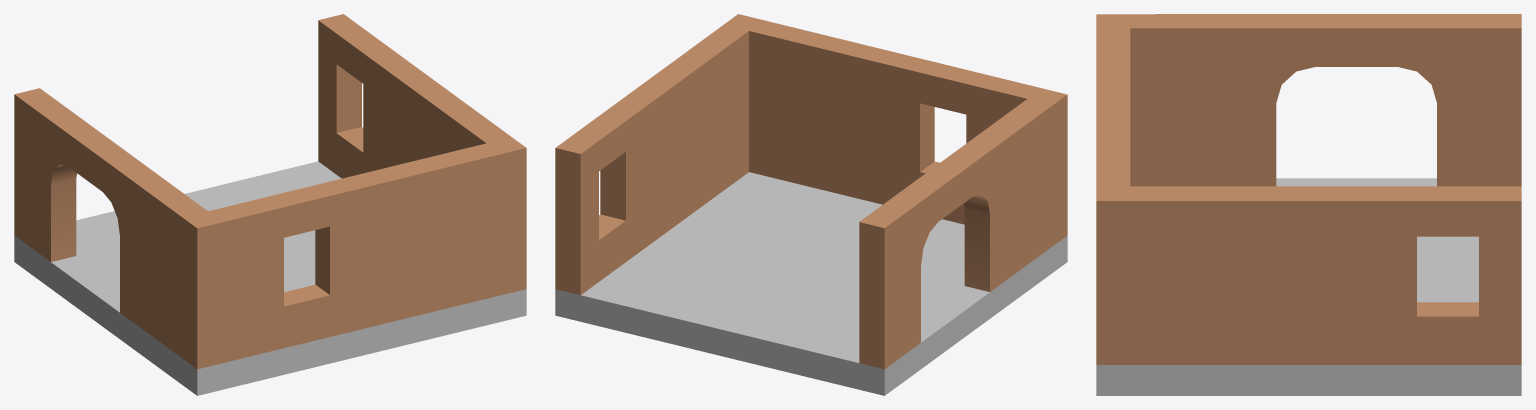
File: main.obj
3 views of the same model, side by side, from view 1: azimuth 30°, elevation 25°; view 2: azimuth 150°, elevation 25°; view 3: azimuth 270°, elevation 25° (orthographic). The views are drawn at different scales.
Parts seen in each view (by area): view 1: Wall#1_Walls_0, Floor_Floor_0; view 2: Wall#1_Walls_0, Floor_Floor_0; view 3: Wall#1_Walls_0, Floor_Floor_0.
Boxes of the visible parts, bbox=[...] form: Wall#1_Walls_0: bbox=[14, 14, 526, 369]; Floor_Floor_0: bbox=[14, 161, 526, 395]; Wall#1_Walls_0: bbox=[555, 14, 1067, 369]; Floor_Floor_0: bbox=[555, 172, 1067, 395]; Wall#1_Walls_0: bbox=[1096, 14, 1521, 364]; Floor_Floor_0: bbox=[1096, 178, 1521, 395].
Size of the model in its own units: 21.85 by 10.64 by 21.03.
